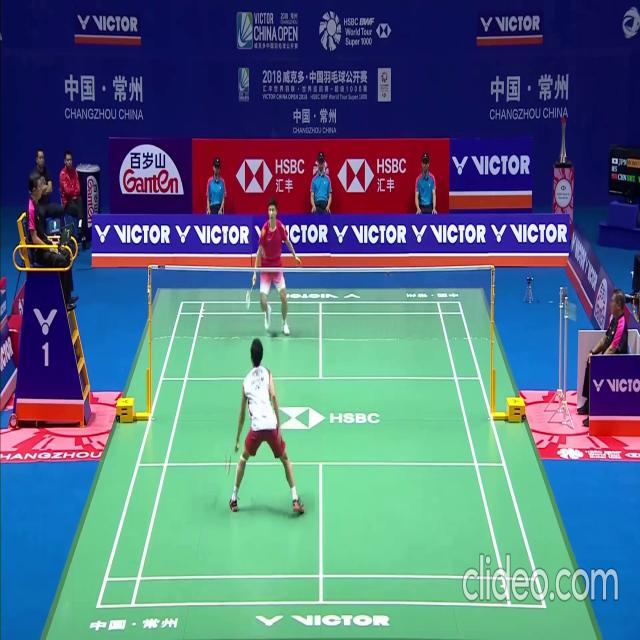Shuttlecock: (224, 229, 229, 237)
